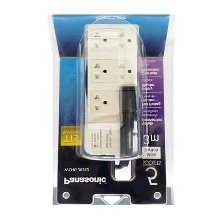book: (46, 10, 177, 209)
three_eye_plug: (78, 20, 141, 158)
